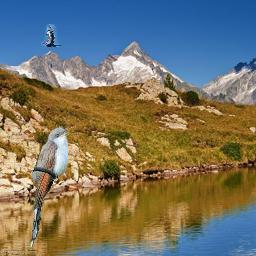Cuckoo: (30, 127, 68, 248)
Woodpecker: (41, 25, 61, 48)
